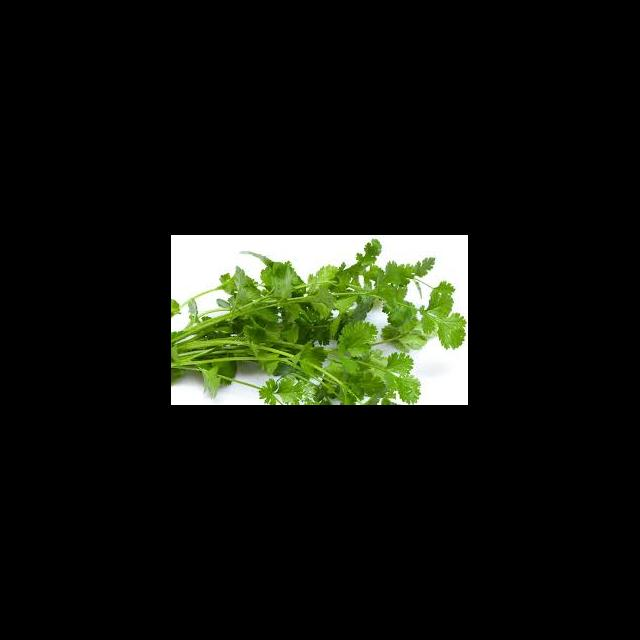cilantro: (172, 239, 468, 405)
